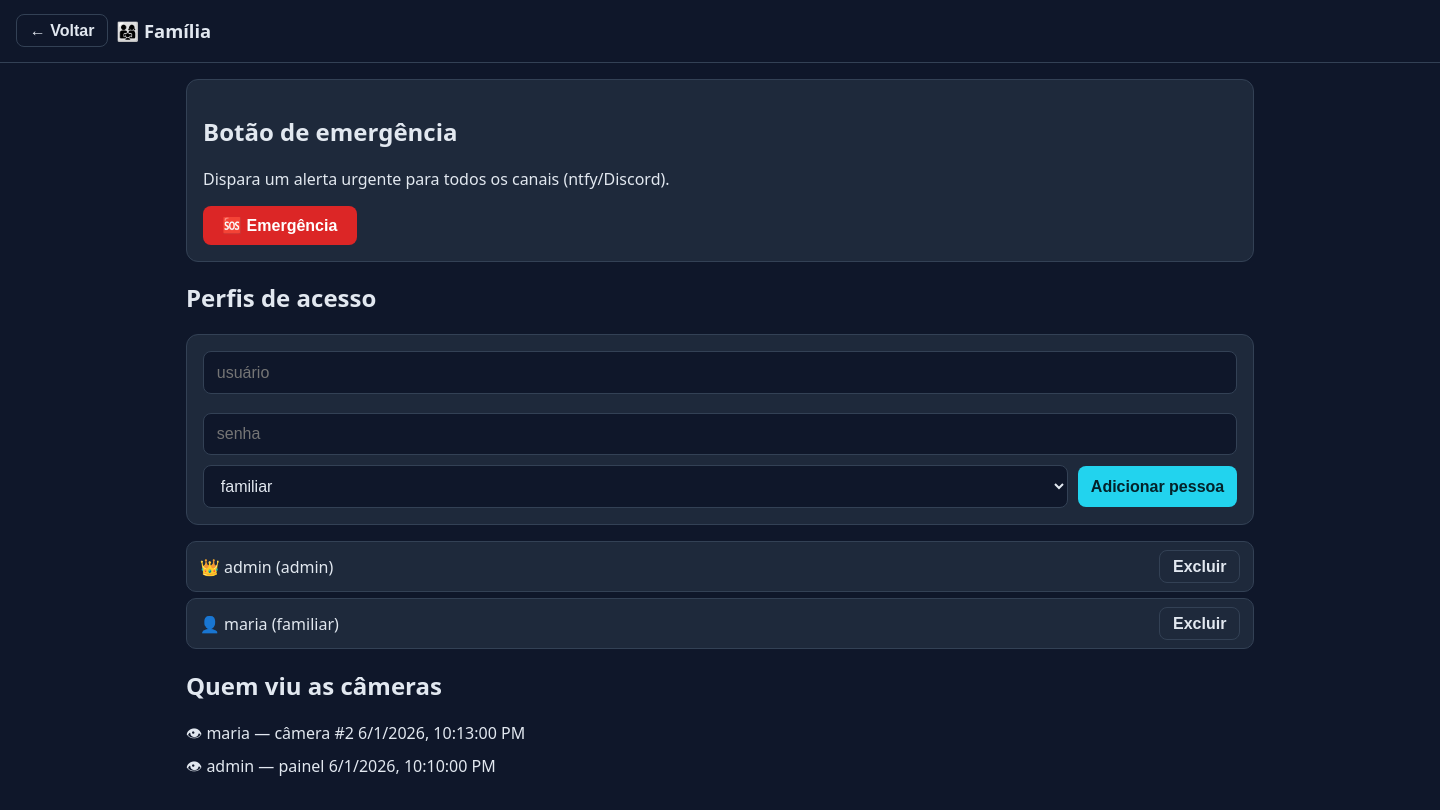
it: Family › shows an error when creating a user fails
The image size is (1440, 810).
Expected: the text "👑 admin (admin)" is shown, [200,556,333,578]
In the field with placeholder "usuário": (720, 373) [203,351,1237,394], type "x"
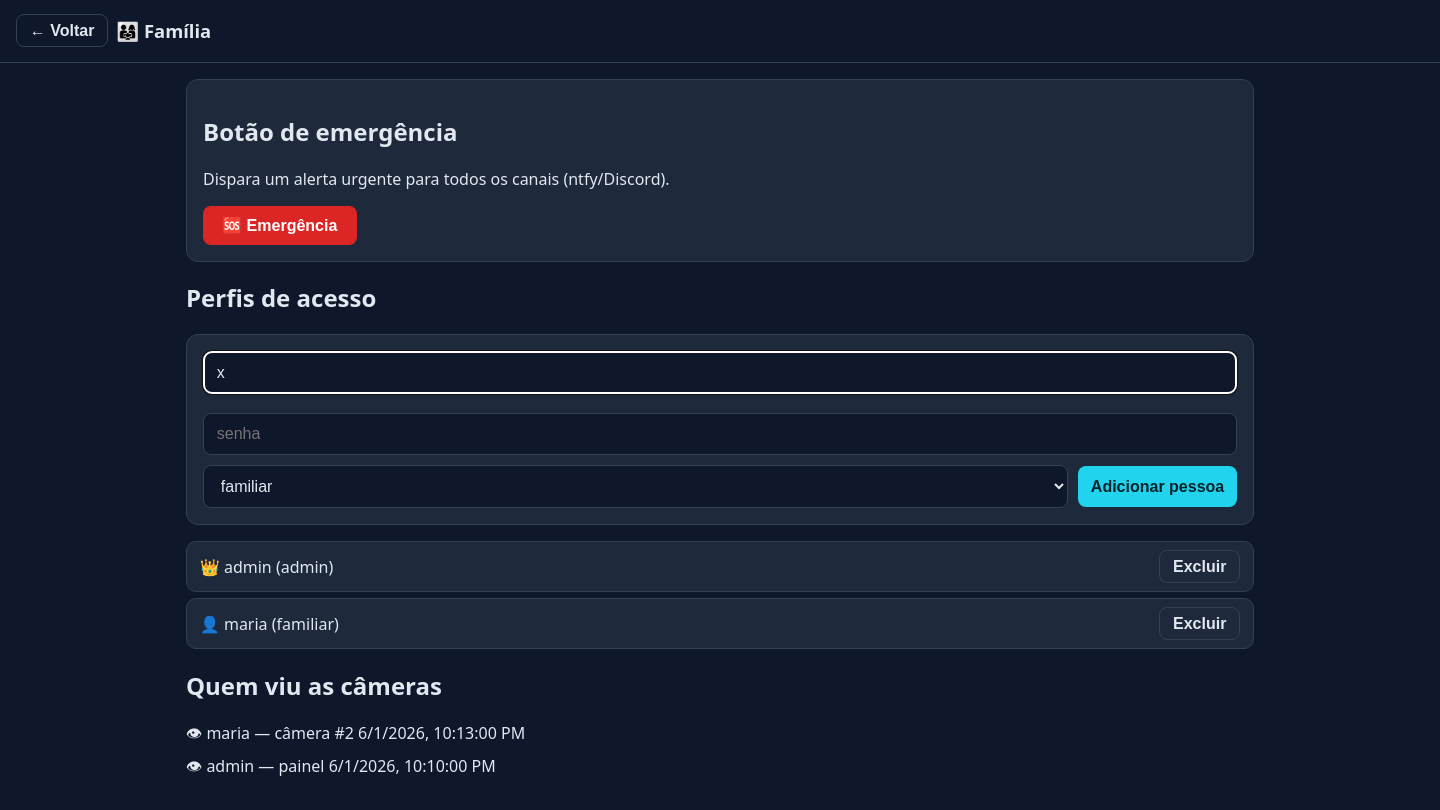
In the password field with placeholder "senha": (720, 434) [203,413,1237,455], type "y"
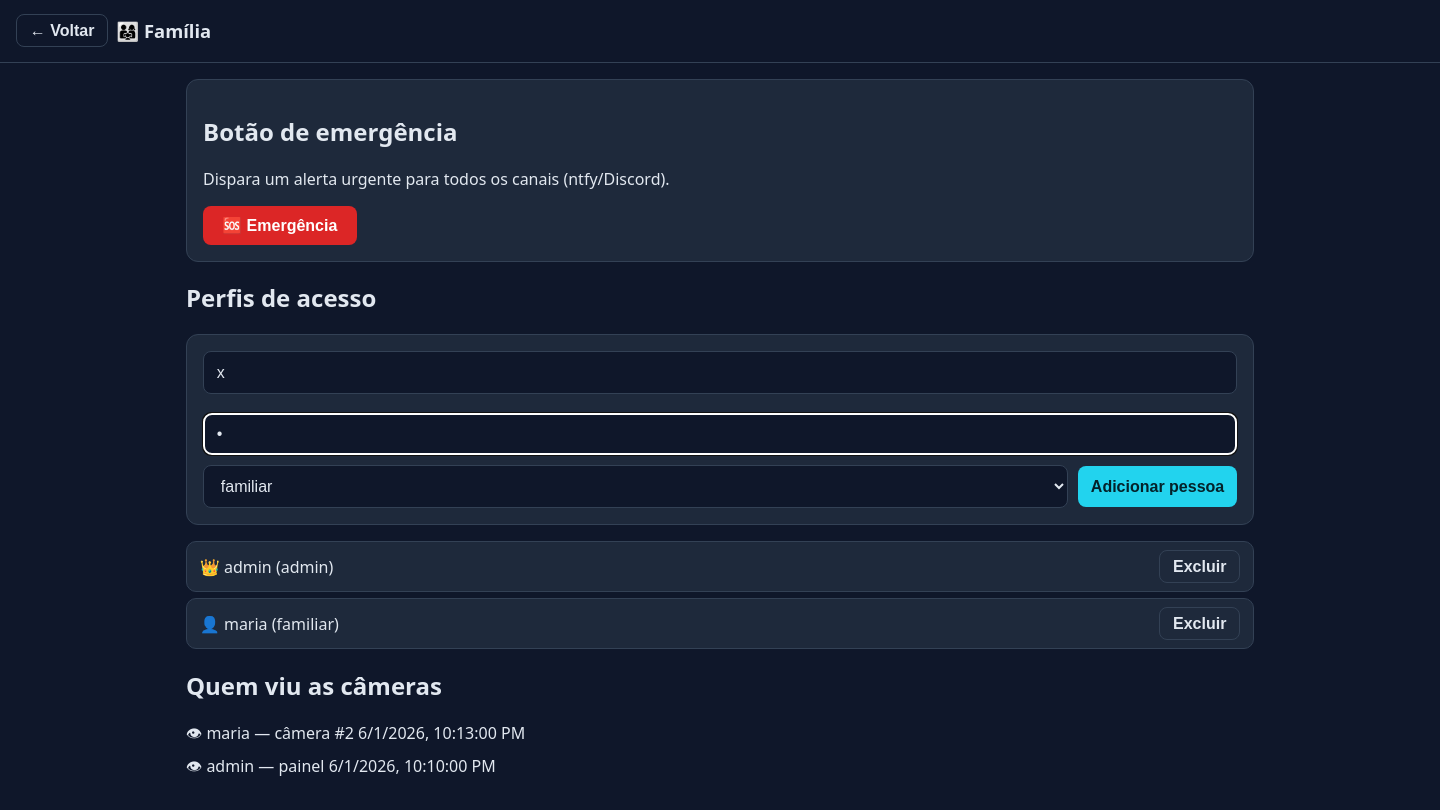
Click the button "Adicionar pessoa": (1158, 487) [1078,466,1237,507]
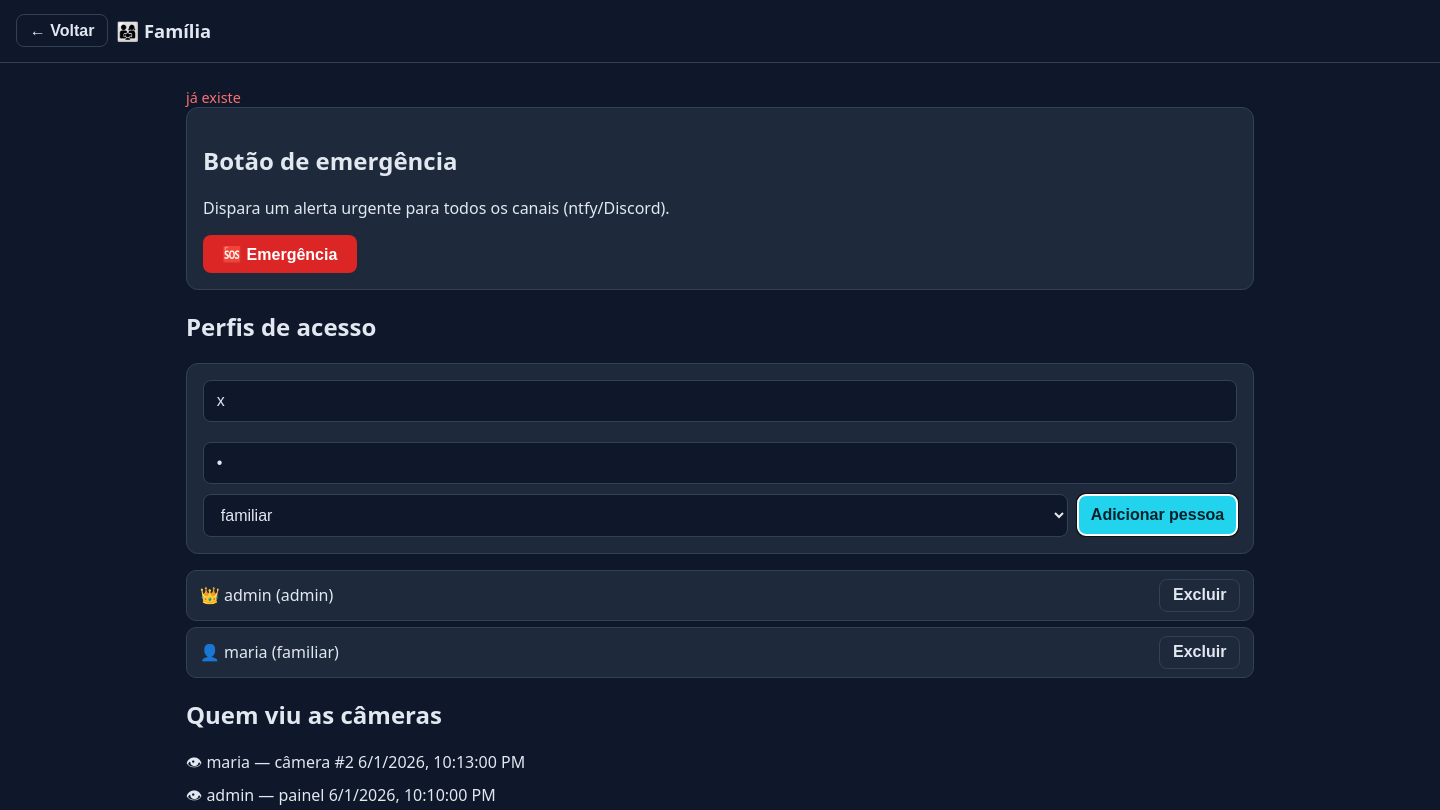
Expected: the text "já existe" is shown, [186,88,241,107]
